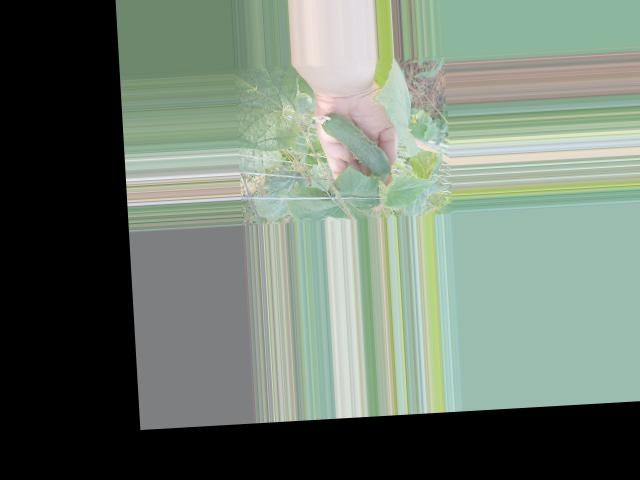cucumber: (310, 109, 390, 180)
